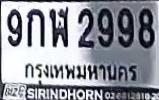2: (77, 8, 93, 48)
8: (138, 7, 154, 47)
9: (117, 6, 133, 46), (97, 7, 113, 46), (6, 8, 21, 46)
A01: (26, 8, 44, 46)
A42: (49, 6, 68, 46)
BKK: (22, 59, 141, 87)
